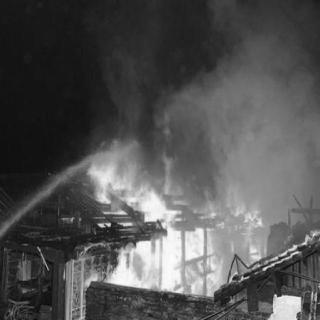Fire: (80, 159, 266, 291)
